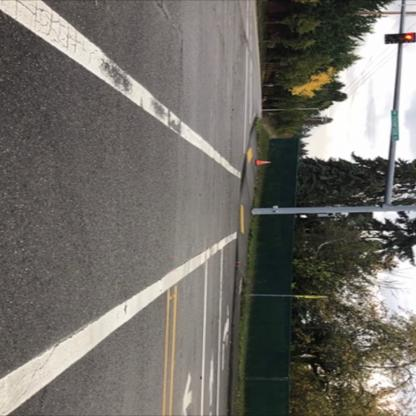Walk: (298, 214, 316, 226)
